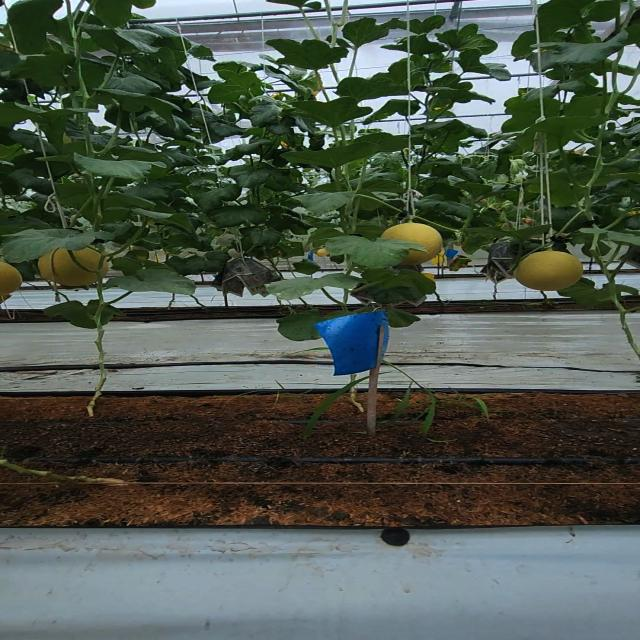Melon: (514, 249, 594, 291), (42, 248, 120, 288), (378, 220, 448, 262)
